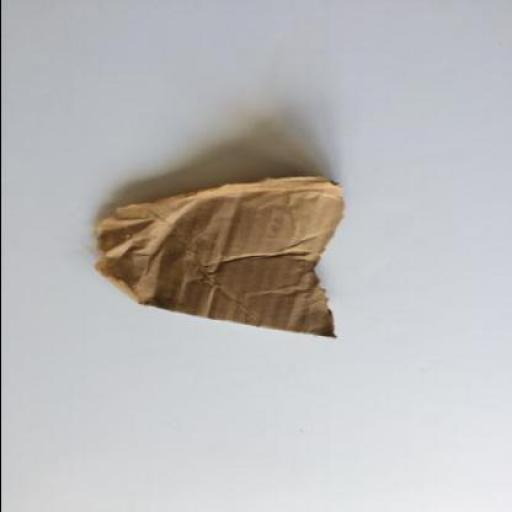cardboard: (92, 177, 345, 339)
